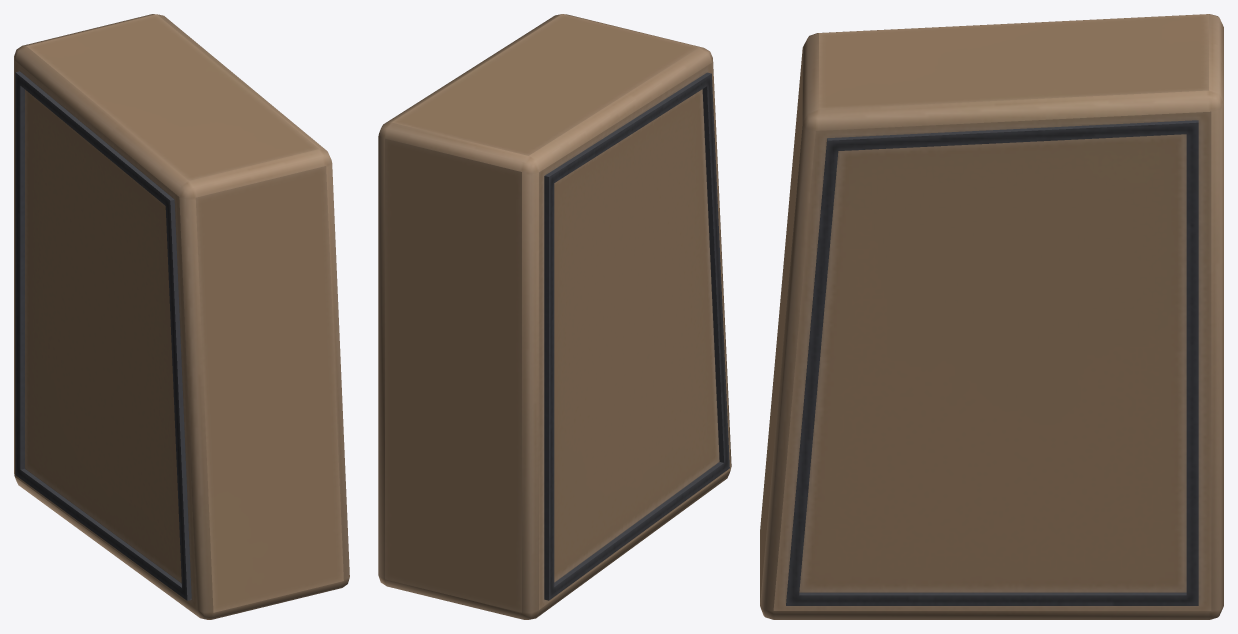
Rendered from AT_PSRMag.fbx.
The picture shows the model from 3 angles, left to right: view 1: azimuth 30°, elevation 25°; view 2: azimuth 150°, elevation 25°; view 3: azimuth 270°, elevation 25°; orthographic projection. The views are drawn at different scales.
Parts seen in each view (by area): view 1: AT_PSRMag_export; view 2: AT_PSRMag_export; view 3: AT_PSRMag_export.
Boxes of the visible parts, x1=… form: AT_PSRMag_export: x1=14, y1=14, x2=349, y2=619; AT_PSRMag_export: x1=378, y1=14, x2=731, y2=619; AT_PSRMag_export: x1=760, y1=14, x2=1223, y2=619.
Bounding box in the file's own units: 0.0222 × 0.0462 × 0.0582.
